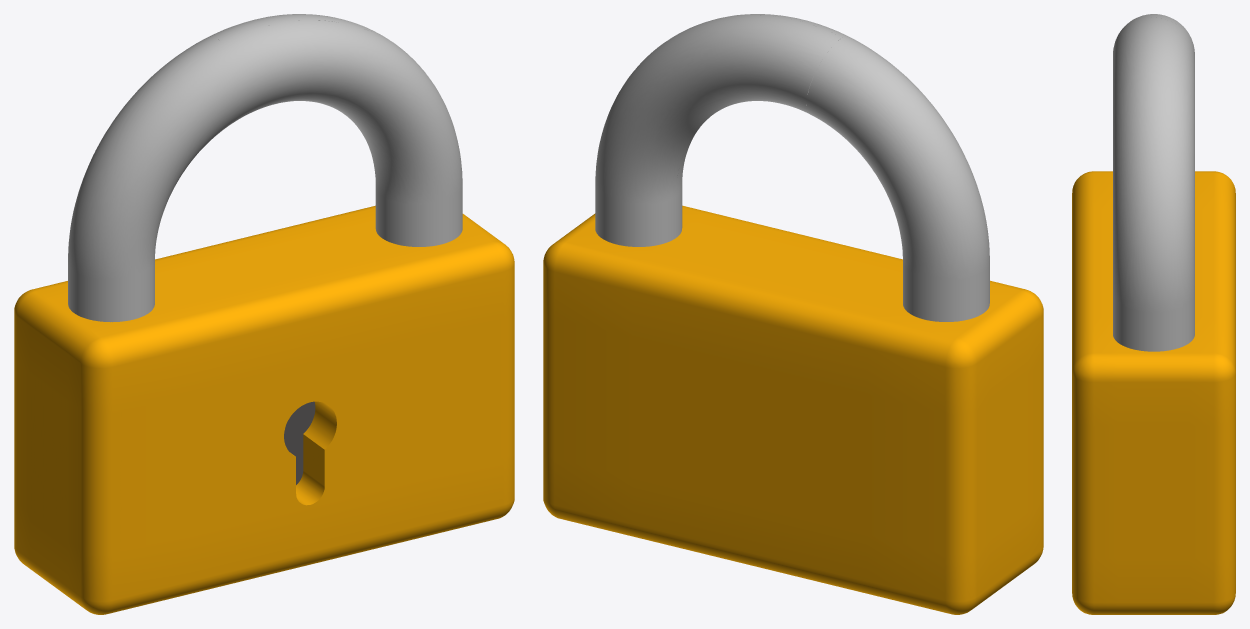
The model's file is padlock-transformed.glb.
The picture shows the model from 3 angles, left to right: view 1: azimuth 30°, elevation 25°; view 2: azimuth 150°, elevation 25°; view 3: azimuth 270°, elevation 25°; orthographic projection. The views are drawn at different scales.
Visible parts, largest first — view 1: Boole_1_Mat_0, Cylinder_1_candado_0, Extrude_1_Mat.1_0; view 2: Boole_1_Mat_0, Cylinder_1_candado_0; view 3: Boole_1_Mat_0, Cylinder_1_candado_0.
Boxes of the visible parts, x1=… form: Boole_1_Mat_0: x1=14, y1=205, x2=514, y2=614; Cylinder_1_candado_0: x1=68, y1=14, x2=462, y2=322; Extrude_1_Mat.1_0: x1=284, y1=401, x2=315, y2=484; Boole_1_Mat_0: x1=543, y1=205, x2=1043, y2=614; Cylinder_1_candado_0: x1=595, y1=14, x2=989, y2=321; Boole_1_Mat_0: x1=1072, y1=171, x2=1235, y2=614; Cylinder_1_candado_0: x1=1113, y1=14, x2=1194, y2=351.
Bounding box in the file's own units: 573 × 660 × 200.
